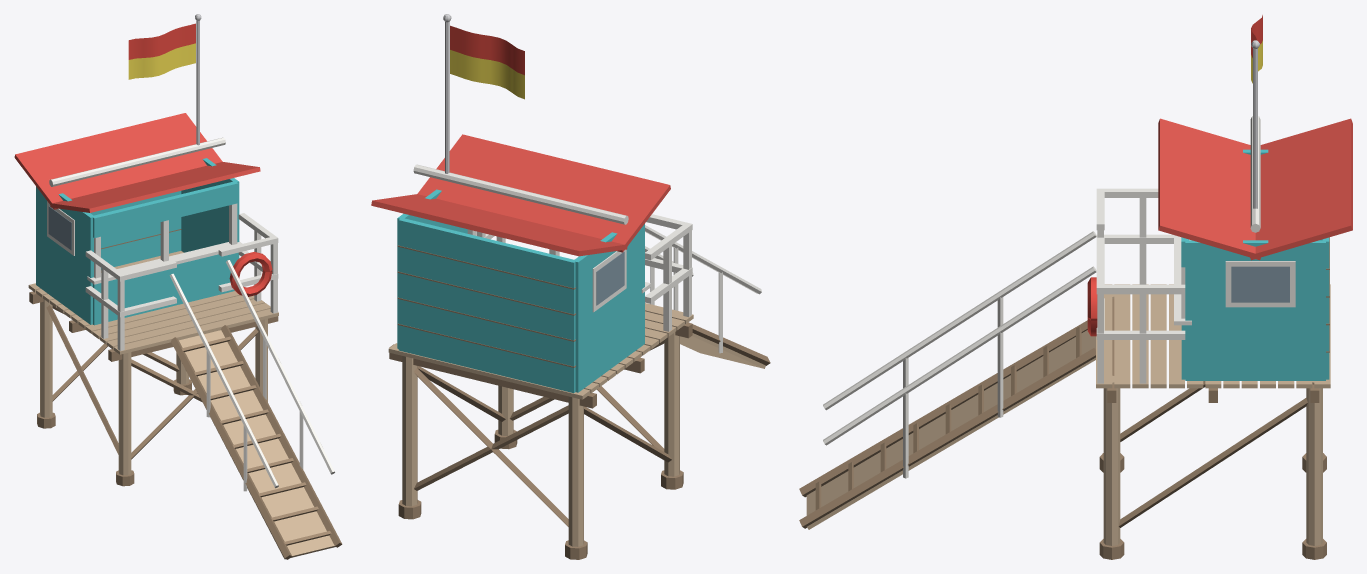
The model's file is prop_lifeguard_tower.glb.
3 renders of one model, left to right at view 1: azimuth 30°, elevation 25°; view 2: azimuth 150°, elevation 25°; view 3: azimuth 270°, elevation 25°, orthographic. The views are drawn at different scales.
Parts seen in each view (by area): view 1: LifeguardTower; view 2: LifeguardTower; view 3: LifeguardTower.
Boxes of the visible parts, box(x1,y1,x2,y2) form: LifeguardTower: box(14, 14, 342, 559); LifeguardTower: box(371, 14, 770, 559); LifeguardTower: box(799, 15, 1352, 559).
Bounding box in the file's own units: 2.28 × 5 × 4.92.
